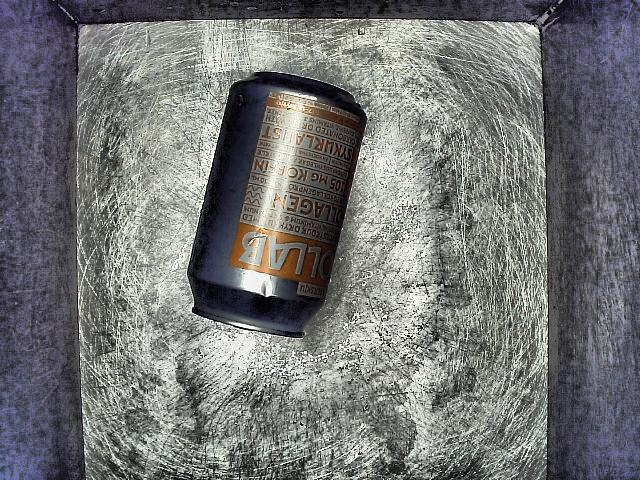Bottles: (170, 71, 395, 399)
